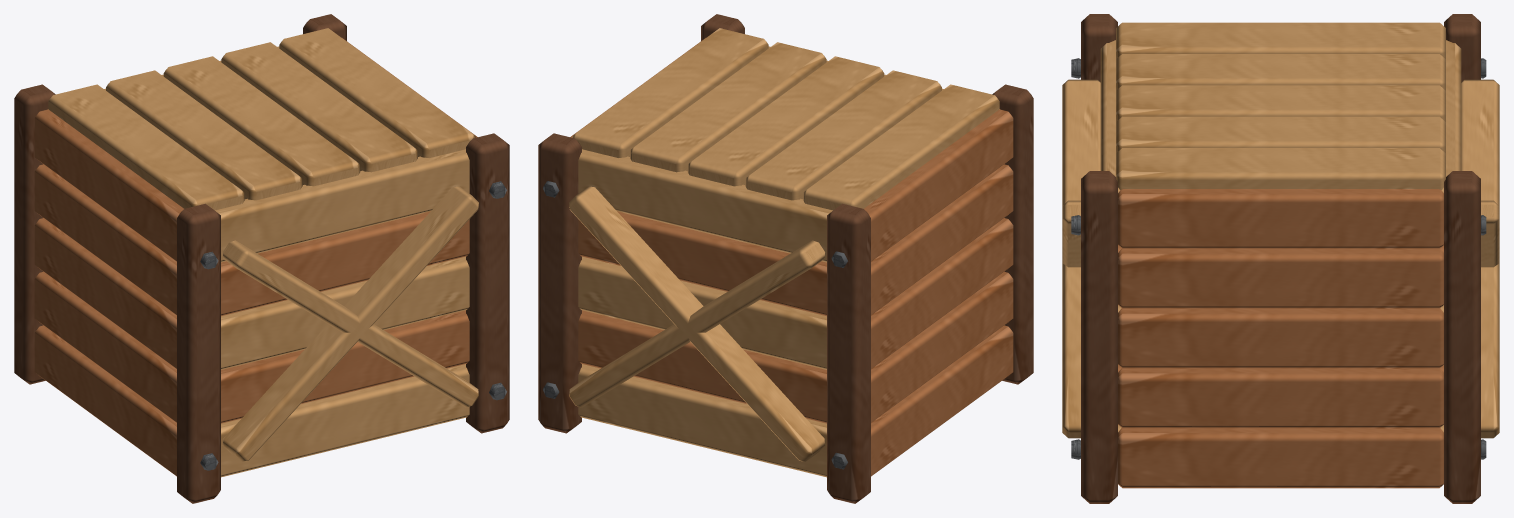
Rendered from SM_Crate_Large.glb.
3 renders of one model, left to right at view 1: azimuth 30°, elevation 25°; view 2: azimuth 150°, elevation 25°; view 3: azimuth 270°, elevation 25°, orthographic. The views are drawn at different scales.
Visible parts, largest first — view 1: SM_Crate_Large; view 2: SM_Crate_Large; view 3: SM_Crate_Large.
Boxes of the visible parts, x1=… form: SM_Crate_Large: x1=14, y1=14, x2=509, y2=503; SM_Crate_Large: x1=538, y1=14, x2=1033, y2=503; SM_Crate_Large: x1=1062, y1=14, x2=1499, y2=503.
Bounding box in the file's own units: 1.01 × 0.8625 × 1.06.
Materials: 1 (1 with a texture image).
